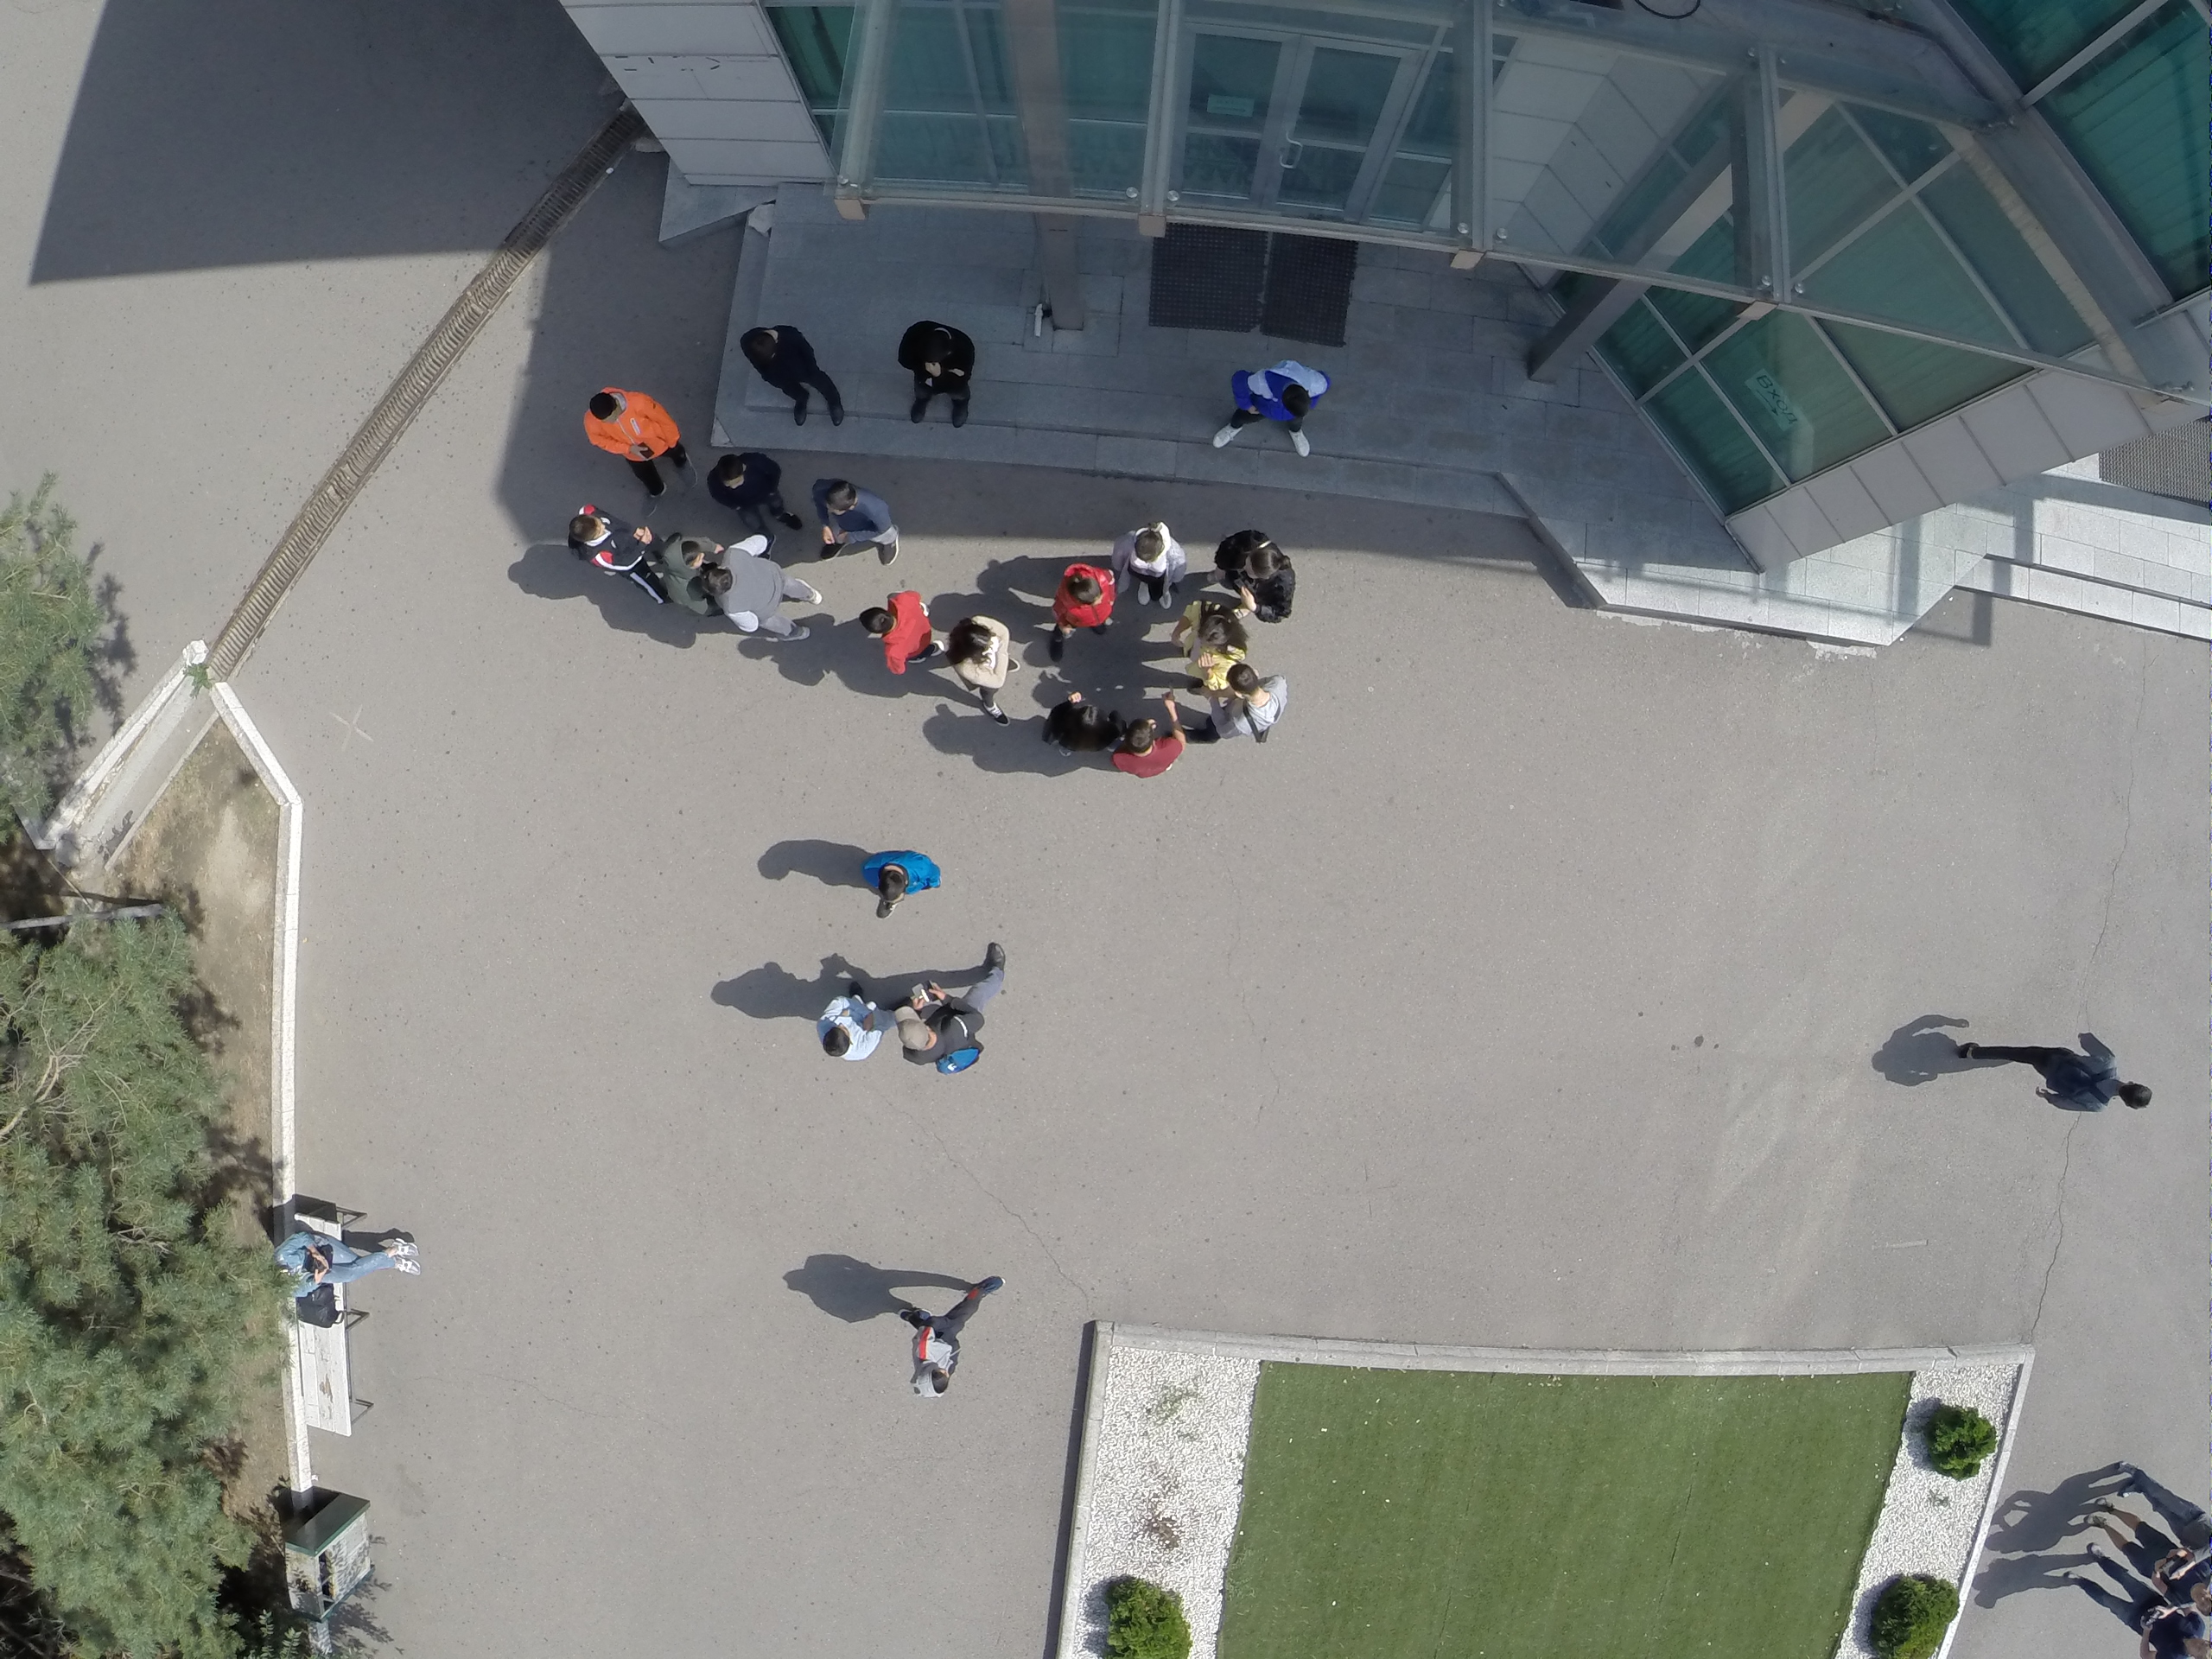person: (1951, 1027, 2151, 1124), (890, 932, 1008, 1079), (583, 383, 698, 518), (895, 1269, 1003, 1408), (709, 537, 825, 655), (1212, 353, 1330, 464), (739, 321, 848, 433), (274, 1225, 427, 1297), (567, 504, 664, 609), (897, 318, 980, 431), (945, 608, 1022, 728), (1104, 686, 1192, 789), (1215, 515, 1298, 621), (811, 474, 902, 569), (705, 448, 801, 535), (855, 585, 946, 674), (1205, 662, 1288, 753), (817, 982, 900, 1065), (1046, 561, 1118, 655), (1113, 519, 1186, 607), (861, 846, 944, 921), (1168, 597, 1246, 674), (1042, 690, 1123, 762), (662, 524, 702, 627)
